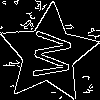W: (23, 29, 72, 80)
